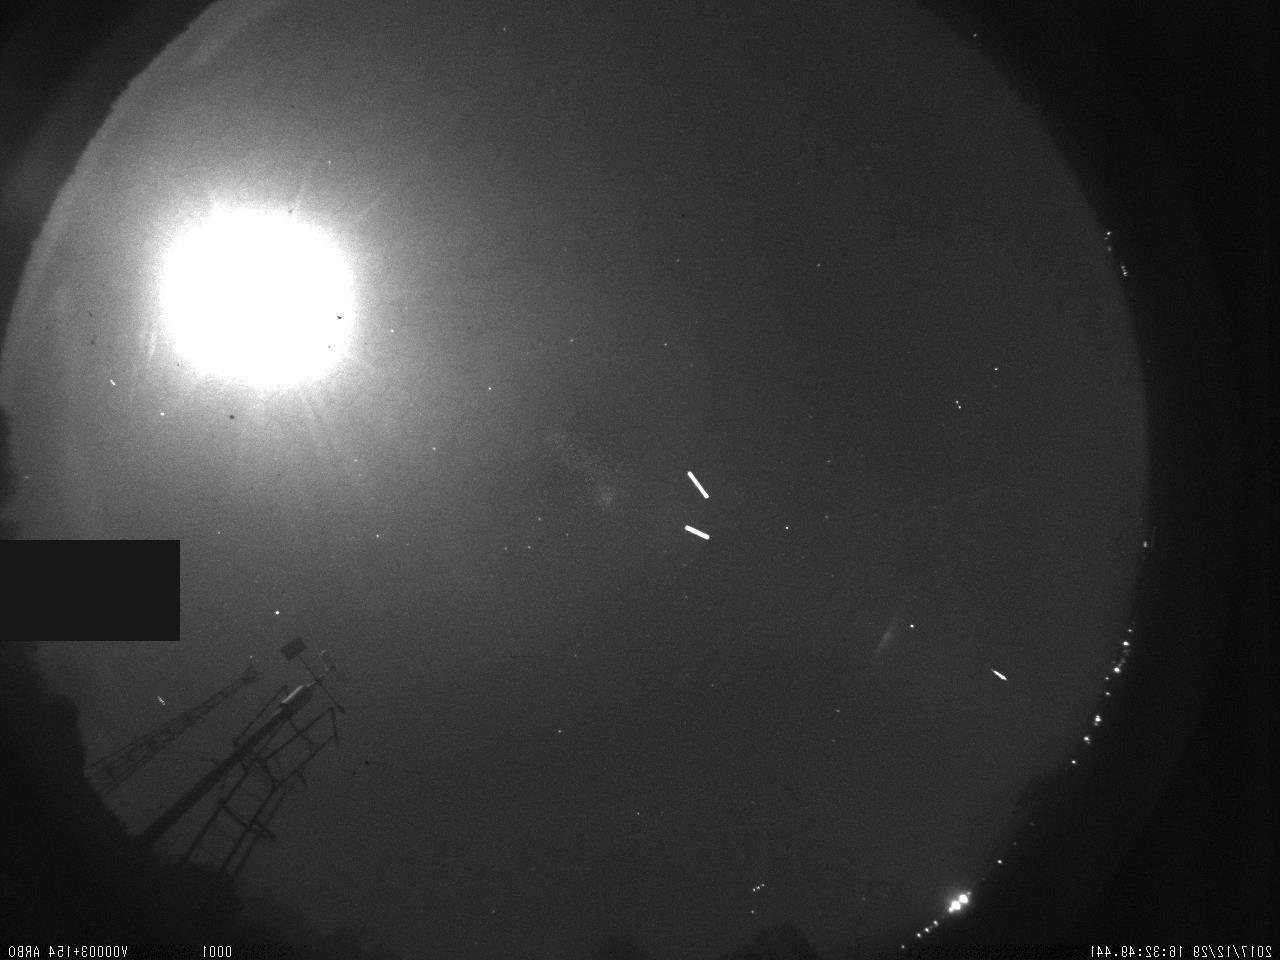meteor: (986, 663, 1016, 687)
